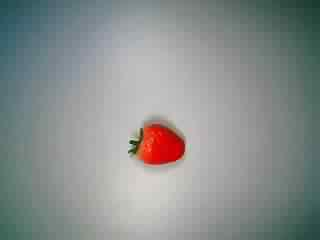strawberry: (124, 109, 192, 173)
